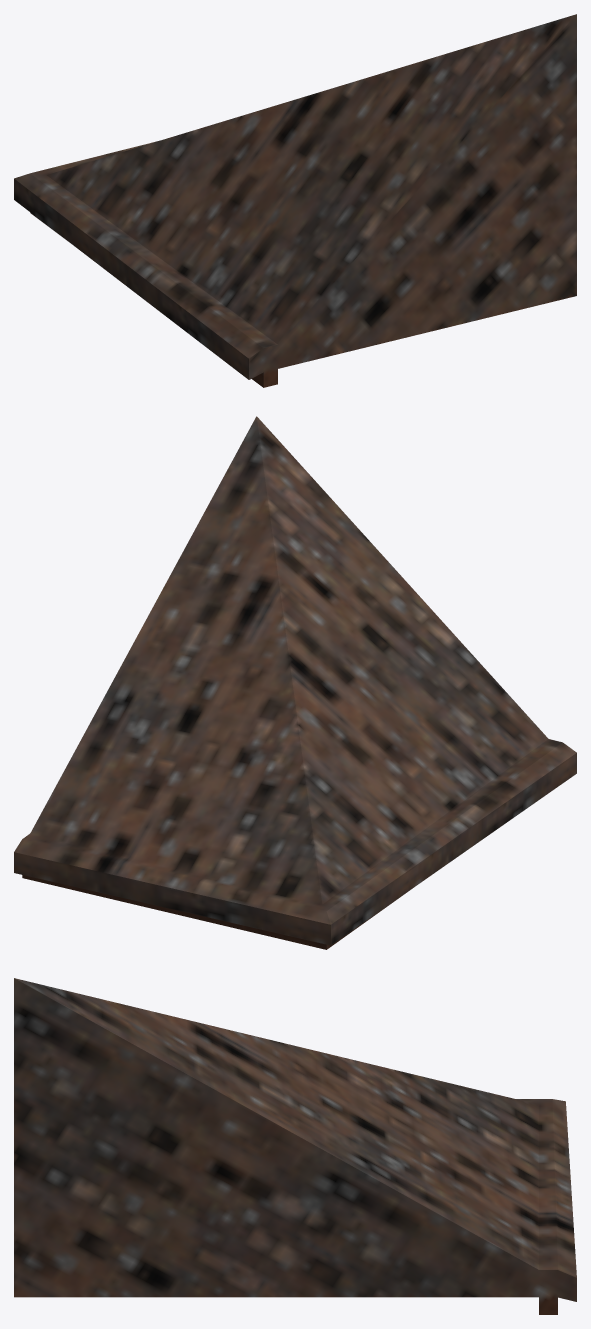
The model's file is Roof corners2.fbx.
3 renders of one model, top to bottom at view 1: azimuth 30°, elevation 25°; view 2: azimuth 150°, elevation 25°; view 3: azimuth 270°, elevation 25°, orthographic. The views are drawn at different scales.
Visible parts, largest first — view 1: Telhado quinas.001; view 2: Telhado quinas.001; view 3: Telhado quinas.001.
Boxes of the visible parts, bbox=[...] form: Telhado quinas.001: bbox=[14, 14, 576, 387]; Telhado quinas.001: bbox=[14, 416, 576, 949]; Telhado quinas.001: bbox=[14, 978, 576, 1314].
Bounding box in the file's own units: 233 × 201 × 305.
